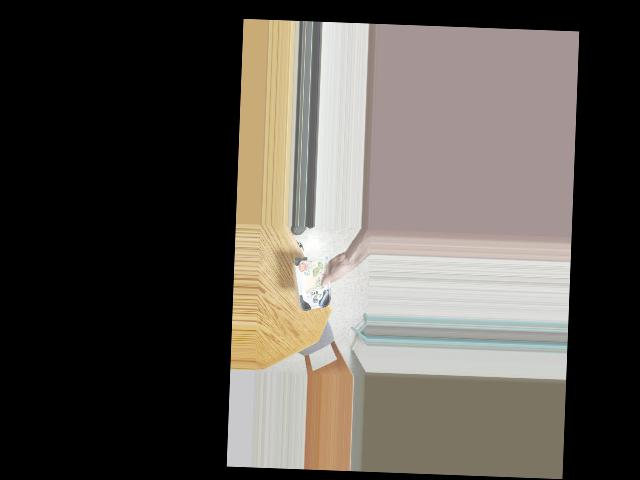cheese: (289, 252, 342, 311)
